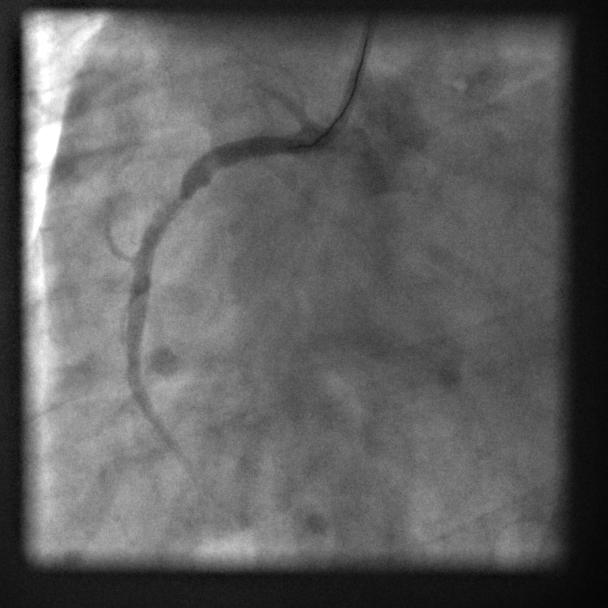Stenosis: (139, 177, 202, 234)
